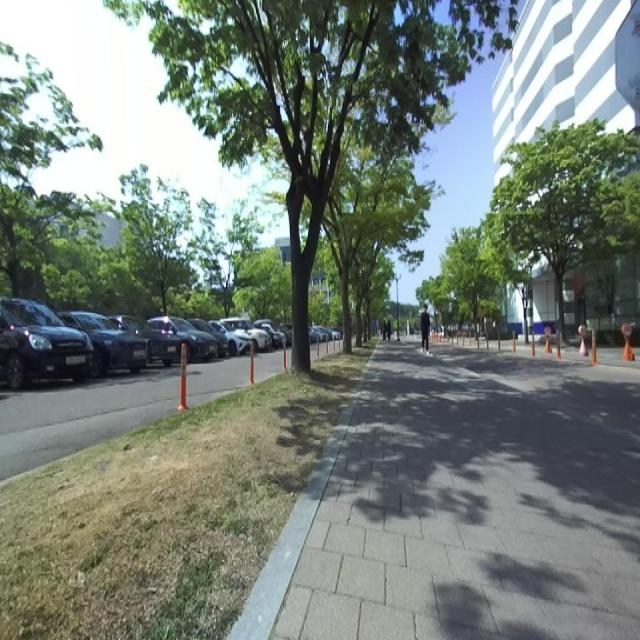sidewalk: (276, 351, 640, 639)
